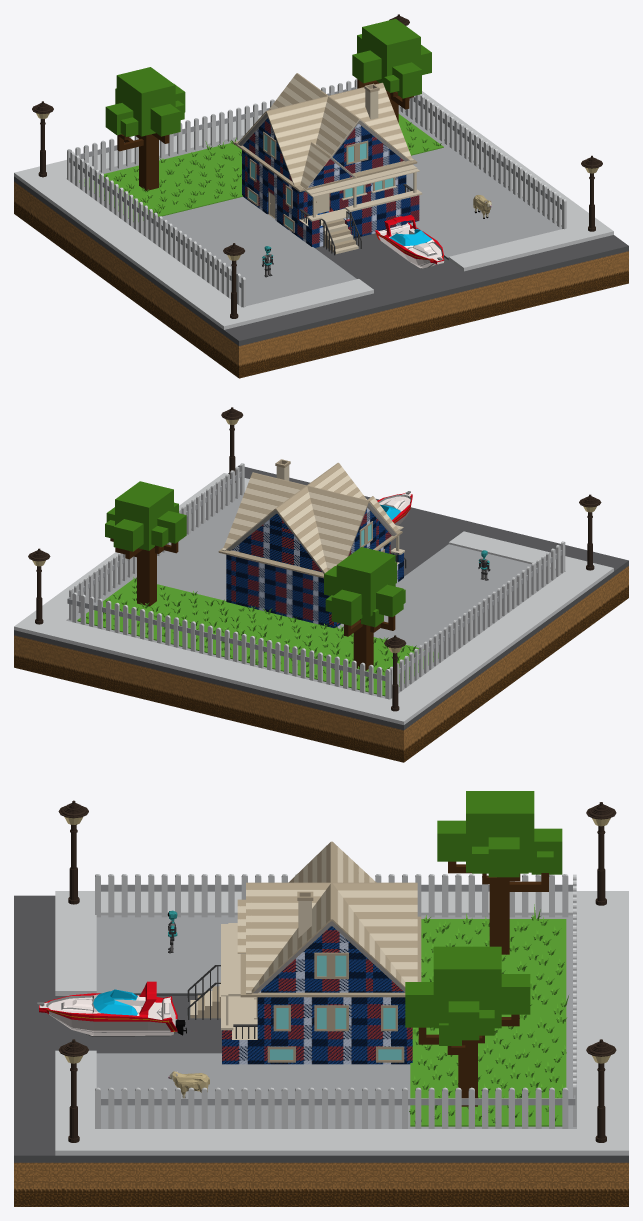
3 renders of one model, top to bottom at view 1: azimuth 30°, elevation 25°; view 2: azimuth 150°, elevation 25°; view 3: azimuth 270°, elevation 25°, orthographic. The views are drawn at different scales.
Parts seen in each view (by area): view 1: Cube.004, Cube.171, VEHICLES_BOAT; view 2: Cube.004, Cube.171, VEHICLES_BOAT; view 3: Cube.004, Cube.171, VEHICLES_BOAT, ANIMAL_OVEJA.
Boxes of the visible parts, box(x1,y1,x2,y2) form: Cube.004: box(14, 14, 628, 378); Cube.171: box(233, 73, 422, 255); VEHICLES_BOAT: box(375, 215, 444, 268); Cube.004: box(14, 407, 628, 762); Cube.171: box(218, 459, 406, 627); VEHICLES_BOAT: box(377, 491, 412, 525); Cube.004: box(14, 791, 628, 1206); Cube.171: box(187, 841, 421, 1064); VEHICLES_BOAT: box(37, 981, 186, 1036); ANIMAL_OVEJA: box(168, 1071, 209, 1098).
Size of the model in its own units: 4000 by 1609 by 4000.
Materials: 31 (4 with a texture image).
